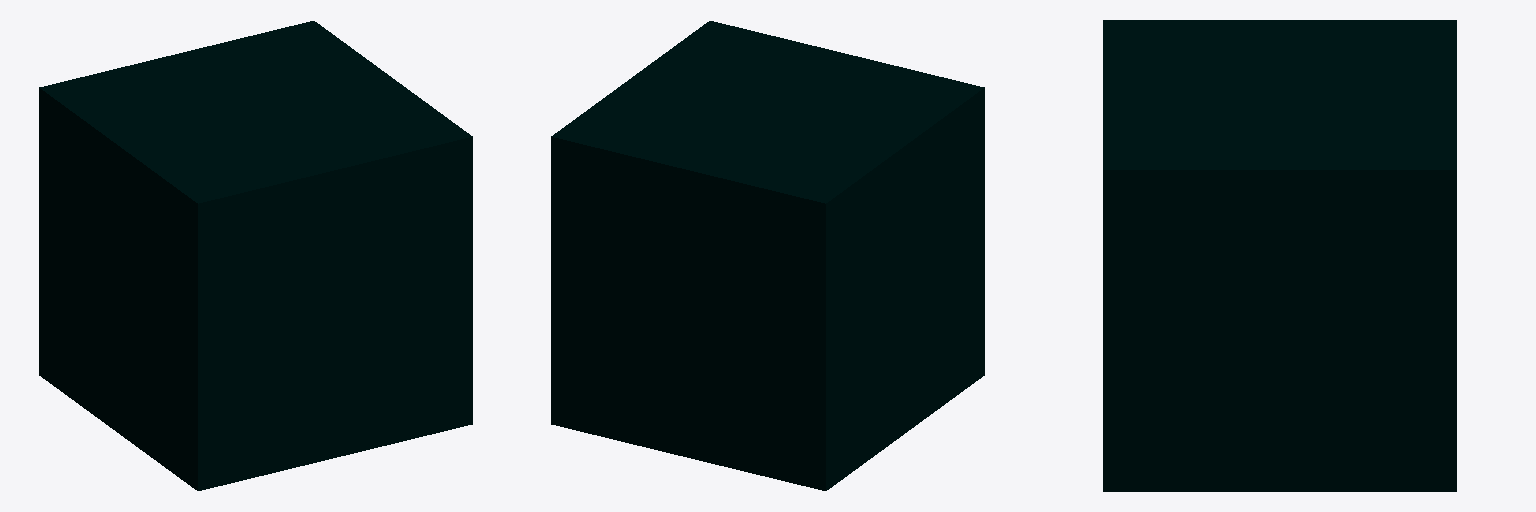
URDF robot description (simple_cuboid):
<?xml version="1.0"?>
<robot name="simple_cuboid">
    <link name="base_link">
        <inertial>
            <origin xyz="0 0 0" rpy="0 0 0" />
            <mass value="0.1" />
            <inertia ixx="0.000363" ixy="0" ixz="0" iyy="0.000363" iyz="0" izz="0.00006" />
        </inertial>
        <visual>
            <origin xyz="0 0 0" rpy="0 0 0" />
            <geometry>
                <box size="0.2 0.2 0.2" />
            </geometry>
            <material name="transparent_black">
                <color rgba="0.0 0.1 0.1 0.5" />
            </material>
        </visual>
        <collision>
            <geometry>
                <box size="0.2 0.2 0.2" />
            </geometry>
        </collision>
    </link>
</robot>

--- Facts derived from the render (not from the file) ---
The picture shows the robot from 3 angles, left to right: view 1: azimuth 30°, elevation 25°; view 2: azimuth 150°, elevation 25°; view 3: azimuth 270°, elevation 25°; orthographic projection.
Model simple_cuboid with 1 links and 0 joints (none), rooted at base_link, posed every joint at zero.
Visible links, largest first — view 1: base_link; view 2: base_link; view 3: base_link.
Link boxes in pixels (x1,y1,x2,y2): base_link: (39, 21, 472, 490); base_link: (551, 21, 984, 490); base_link: (1103, 20, 1456, 491).
Size in the robot's own frame: 0.2 by 0.2 by 0.2 metres.
Geometry: primitives only (box / cylinder / sphere), no mesh files.